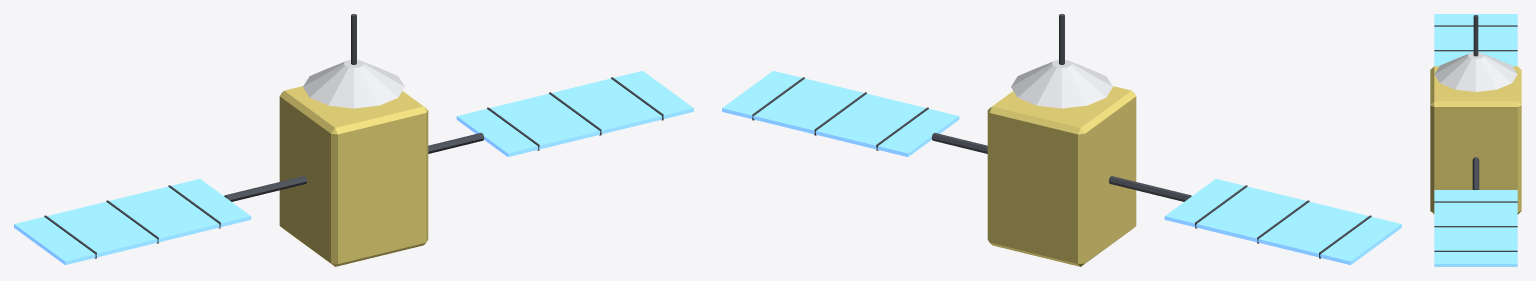
The model's file is satellite.glb.
3 renders of one model, left to right at view 1: azimuth 30°, elevation 25°; view 2: azimuth 150°, elevation 25°; view 3: azimuth 270°, elevation 25°, orthographic. The views are drawn at different scales.
Parts seen in each view (by area): view 1: satellite; view 2: satellite; view 3: satellite.
Part boxes in pixels (left/top/right/bottom): satellite: left=14, top=14, right=693, bottom=266; satellite: left=722, top=14, right=1401, bottom=266; satellite: left=1430, top=14, right=1521, bottom=266.
Size of the model in its own units: 1 by 0.338 by 0.1549.
